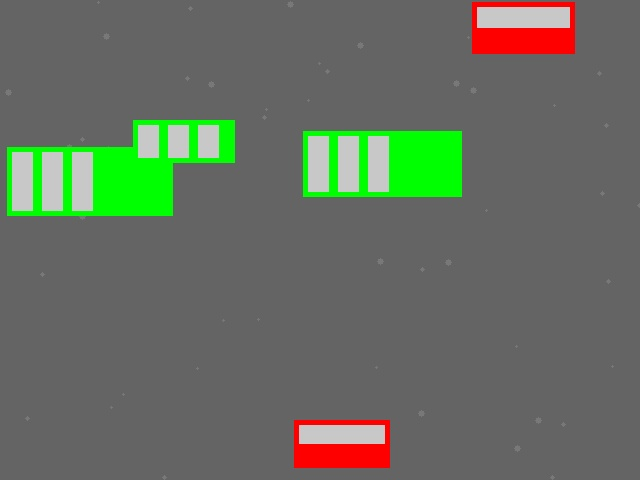bus: (7, 147, 172, 215), (303, 131, 461, 196), (133, 120, 234, 162)
car: (472, 2, 574, 53), (294, 420, 389, 467)
